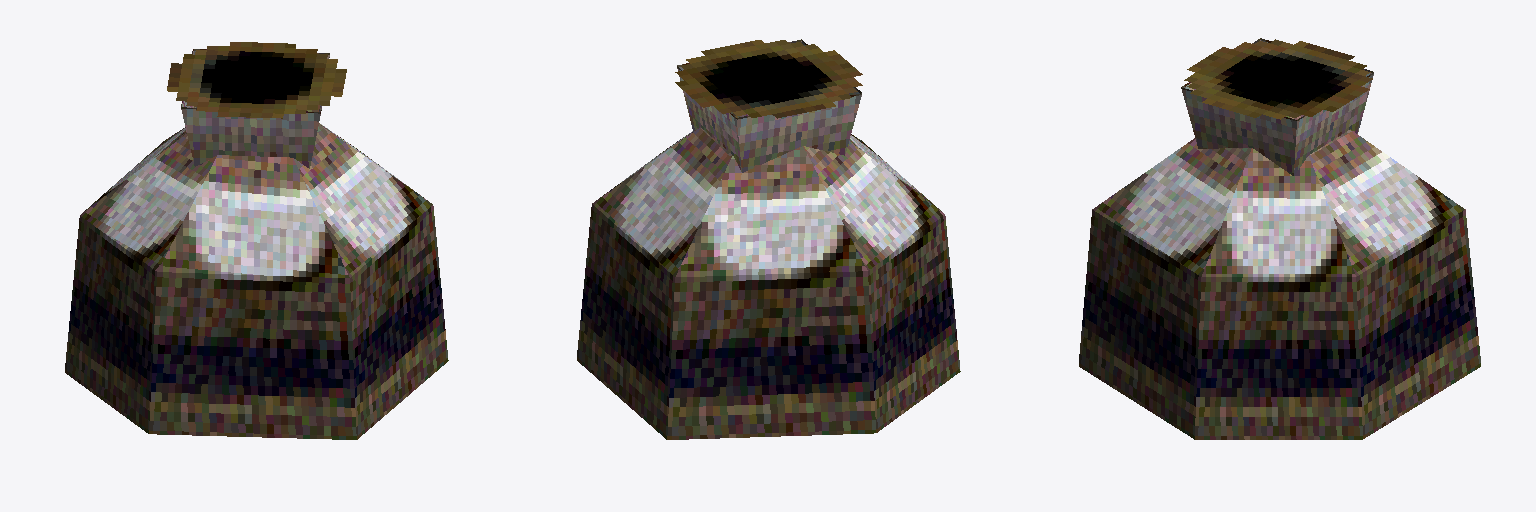
The picture shows the model from 3 angles: view 1: azimuth 30°, elevation 25°; view 2: azimuth 150°, elevation 25°; view 3: azimuth 270°, elevation 25°; orthographic projection.
Parts seen in each view (by area): view 1: pot_base, pot_top; view 2: pot_base, pot_top; view 3: pot_base, pot_top.
Boxes of the visible parts, box(x1,y1,x2,y2) form: pot_base: box(65, 49, 448, 439); pot_top: box(167, 42, 346, 118); pot_base: box(577, 39, 960, 439); pot_top: box(675, 40, 862, 118); pot_base: box(1079, 38, 1480, 439); pot_top: box(1184, 39, 1372, 119).
Size of the model in its own units: 1.8 by 2.02 by 2.09.
Materials: 2 (2 with a texture image).